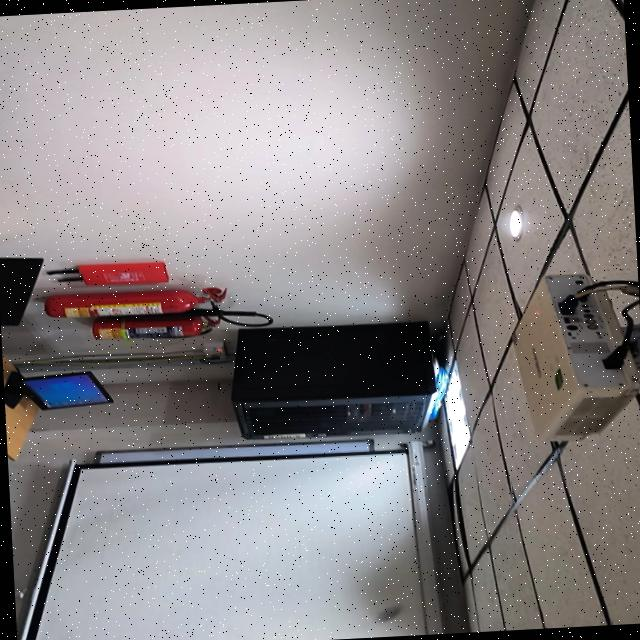Fire Extinguisher: (45, 290, 211, 318), (91, 316, 220, 340)
Light: (444, 367, 470, 468), (509, 210, 522, 238)
Monitor: (24, 372, 112, 409), (0, 258, 42, 326)
Projector: (514, 275, 639, 441)
